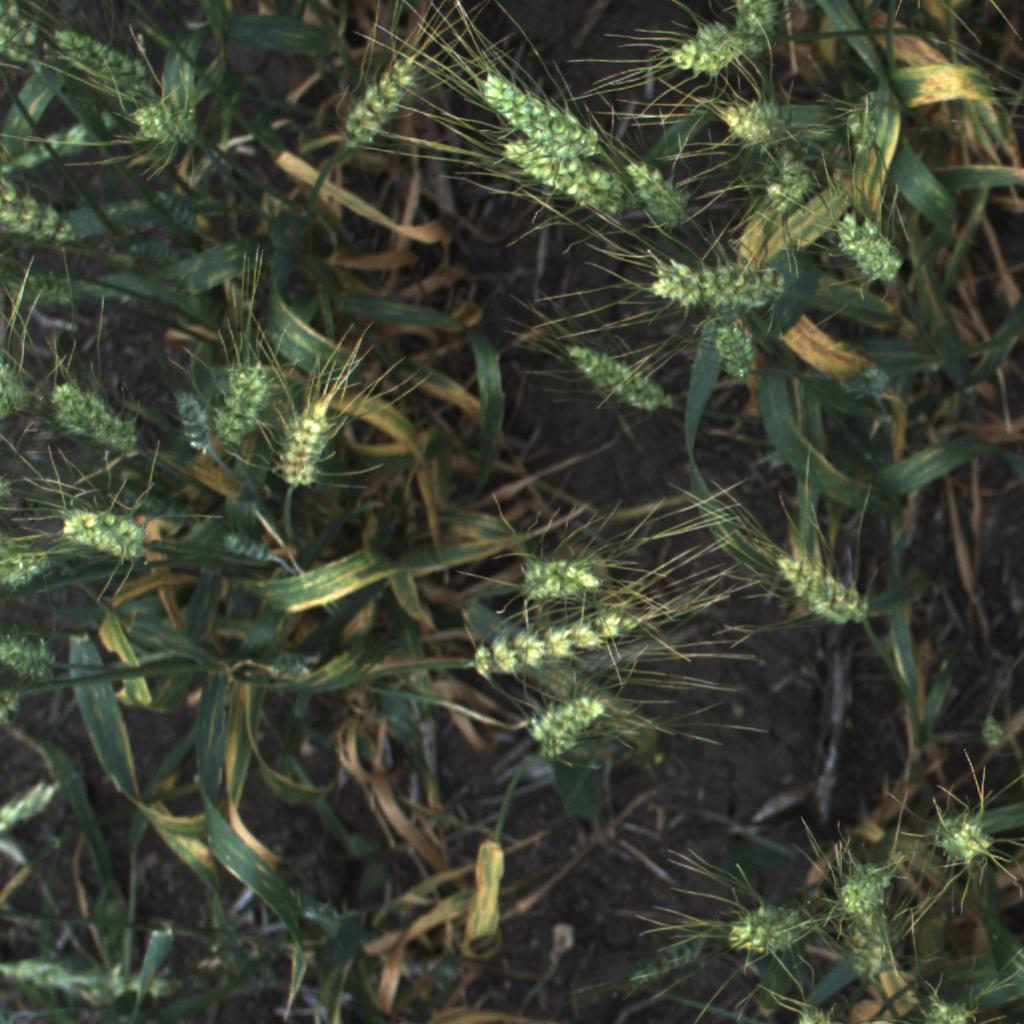0-0: (468, 592, 652, 685), (490, 116, 638, 227), (471, 60, 612, 164), (639, 243, 795, 323), (764, 535, 877, 635), (559, 333, 682, 423), (512, 677, 631, 770), (45, 369, 158, 465), (43, 17, 167, 103), (3, 941, 160, 1008), (498, 535, 621, 618), (269, 374, 352, 496), (57, 491, 169, 577), (0, 168, 96, 262), (828, 202, 918, 295), (210, 344, 281, 457), (715, 892, 825, 964), (619, 151, 709, 234), (834, 894, 904, 991), (661, 18, 766, 82), (345, 59, 420, 148), (120, 90, 212, 160), (0, 762, 75, 840), (711, 91, 799, 157), (620, 931, 718, 990), (710, 300, 770, 387), (820, 852, 899, 912), (751, 160, 821, 226), (930, 812, 1001, 876), (0, 527, 58, 604), (0, 0, 67, 66), (171, 382, 224, 465), (0, 629, 70, 691), (726, 0, 798, 40), (768, 997, 871, 1024), (841, 100, 881, 152), (1017, 77, 1024, 146)
